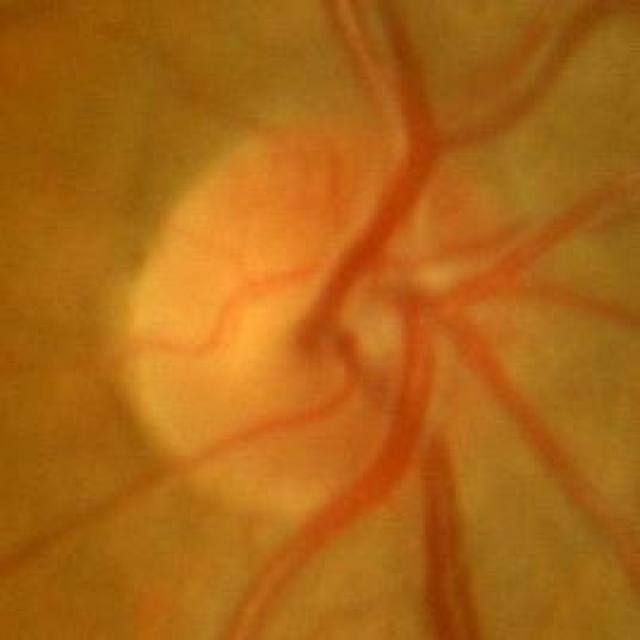OC: (235, 267, 408, 388)
OD: (123, 132, 460, 515)
